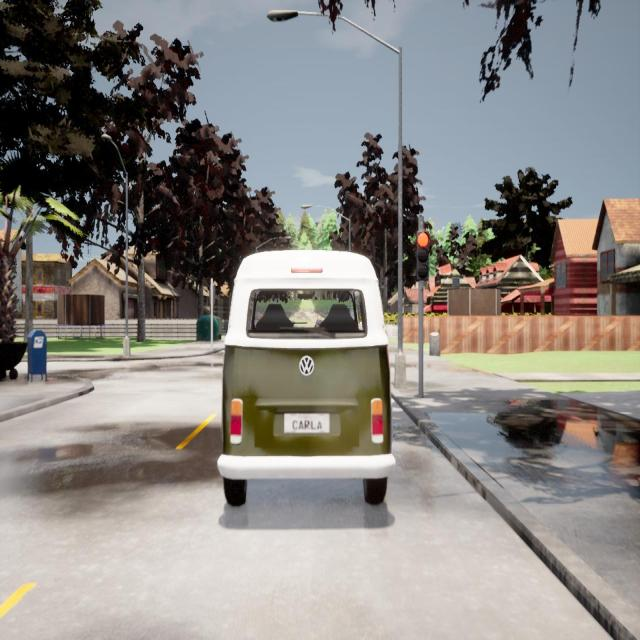Vehicle: (218, 250, 394, 504)
traffic_light: (416, 232, 429, 279), (210, 284, 216, 307)
